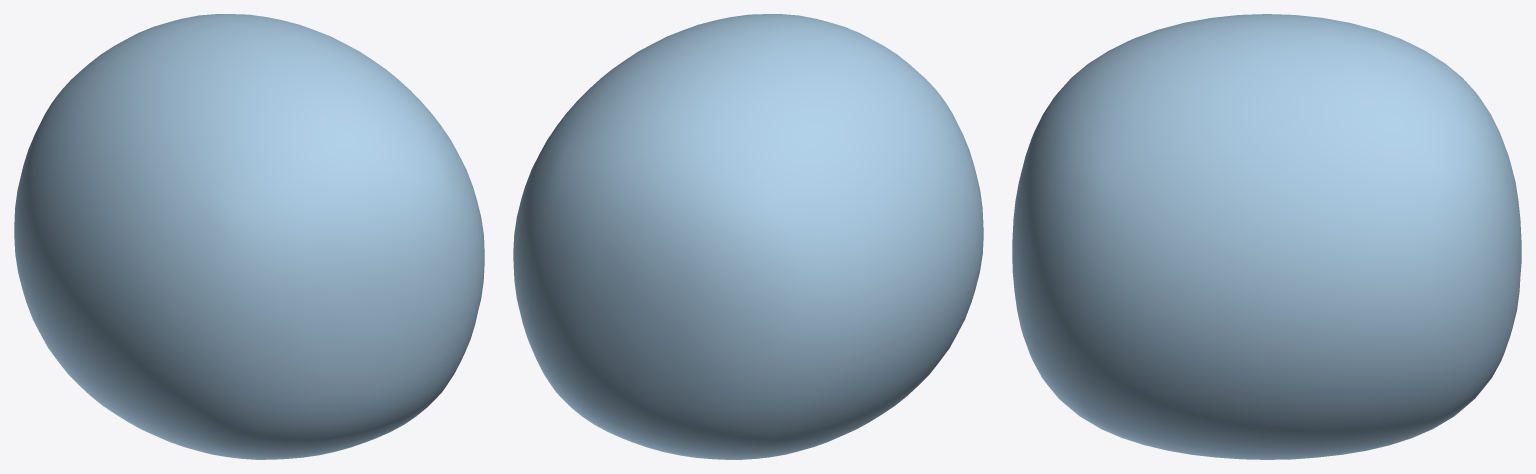
File: seed21.fbx
The picture shows the model from 3 angles, left to right: view 1: azimuth 30°, elevation 25°; view 2: azimuth 150°, elevation 25°; view 3: azimuth 270°, elevation 25°; orthographic projection. The views are drawn at different scales.
Parts seen in each view (by area): view 1: 立方体.001; view 2: 立方体.001; view 3: 立方体.001.
Part boxes in pixels (left/top/right/bottom): 立方体.001: left=14, top=14, right=484, bottom=459; 立方体.001: left=513, top=14, right=983, bottom=459; 立方体.001: left=1012, top=14, right=1521, bottom=459.
Bounding box in the file's own units: 106 × 97.86 × 116.
